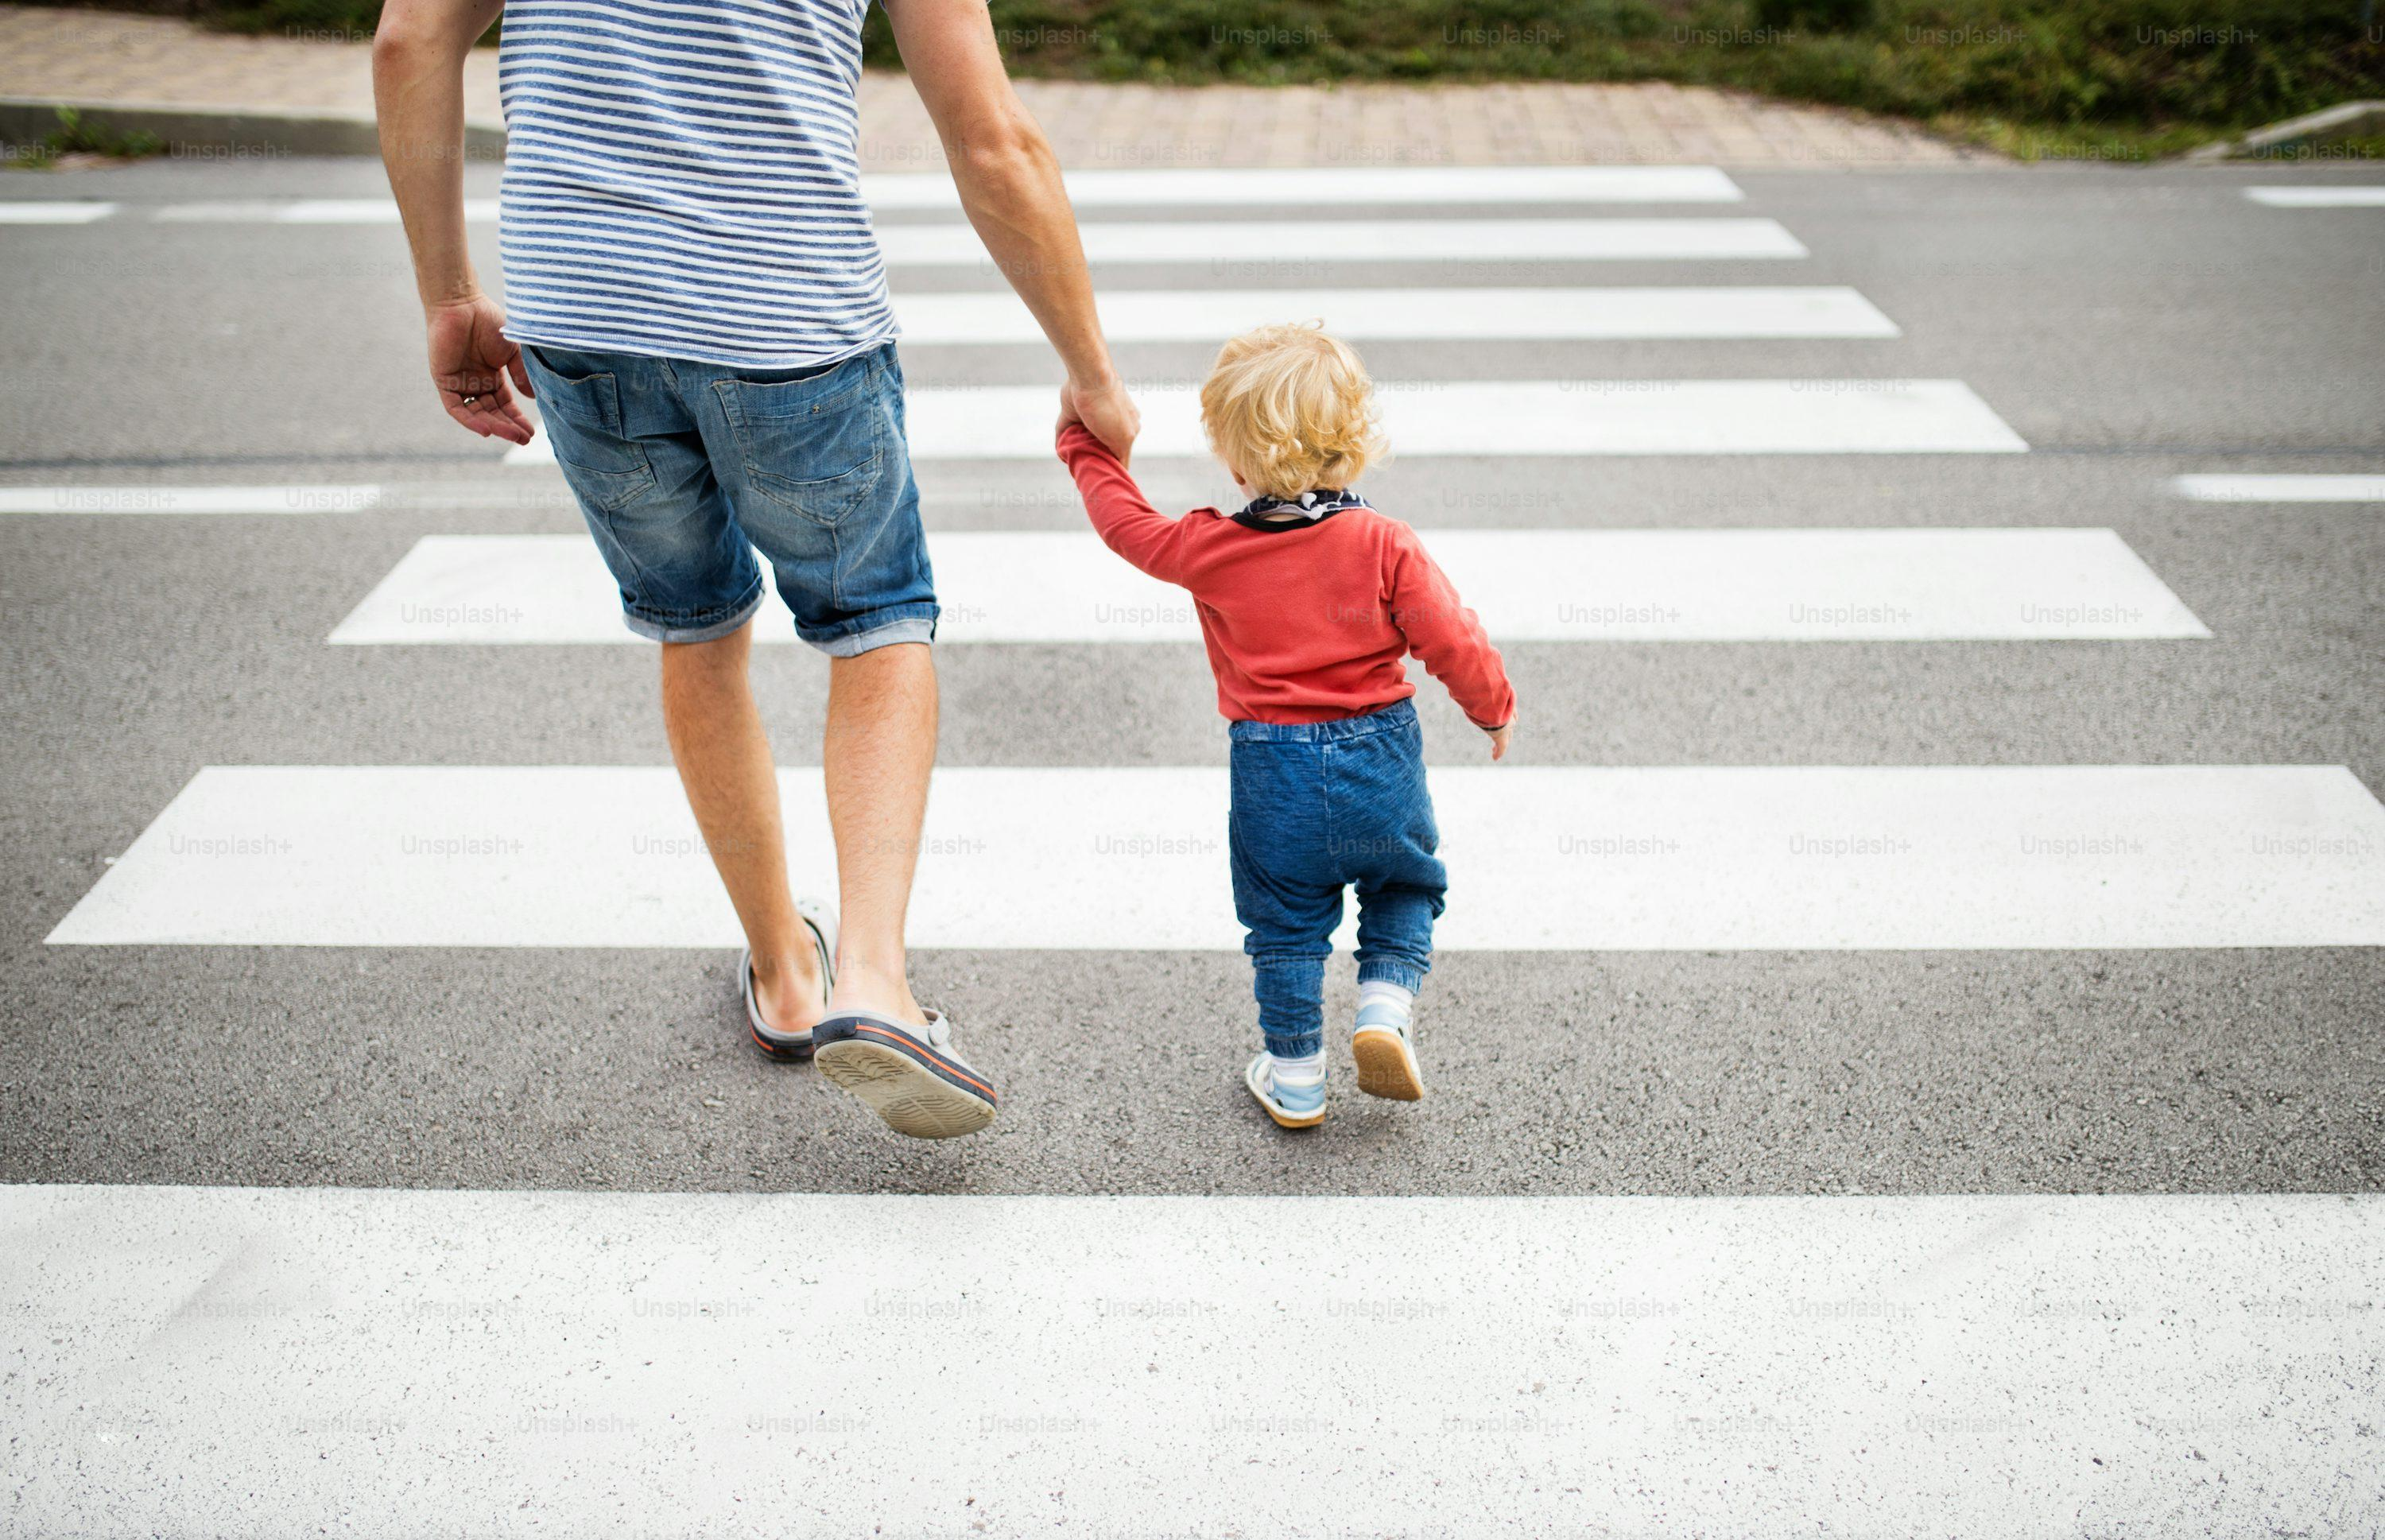pedestrian: (352, 1, 1149, 1148), (1044, 308, 1564, 1143)
